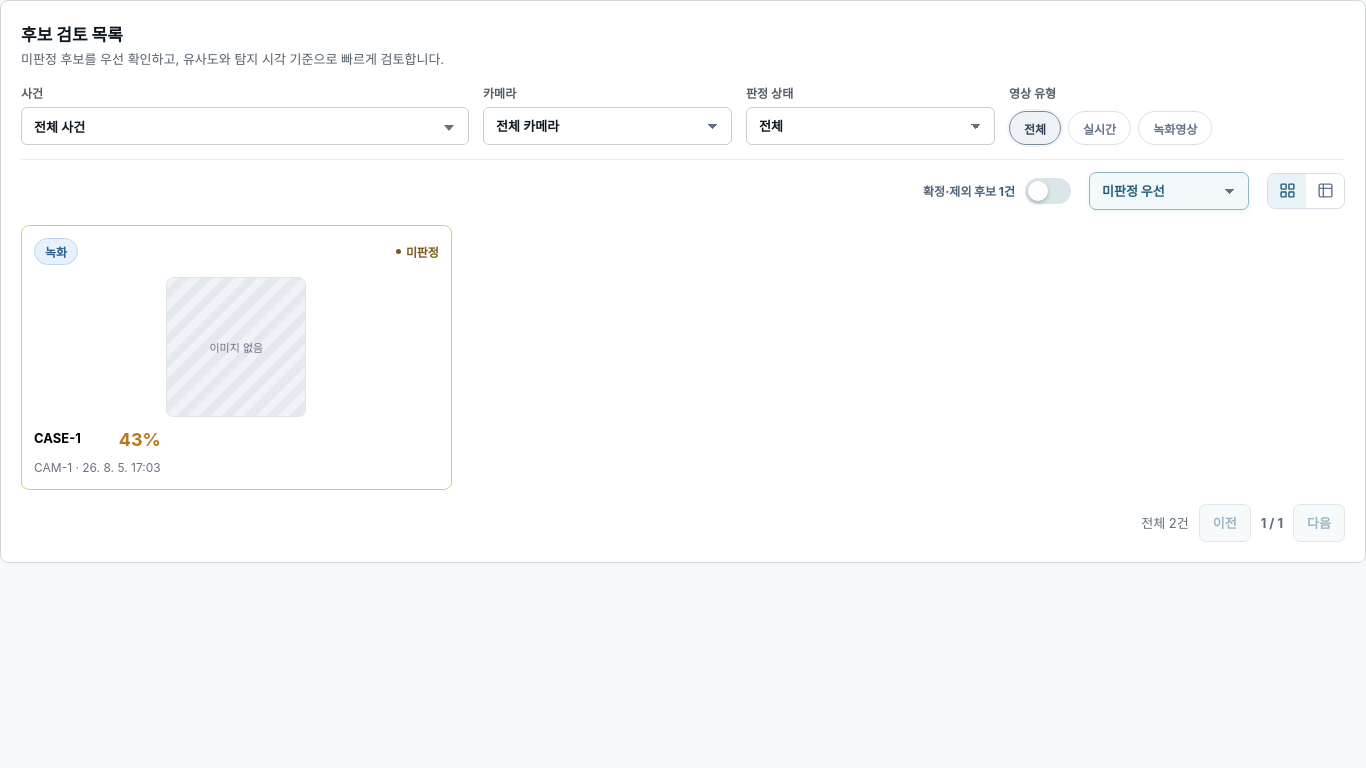
it: CandidatesView › collapses confirmed candidates by default
This screenshot has width=1366, height=768.
Expected: the number of buttons with class "candidate-card" is 1, [21,225,452,490]
Click the button with class "case-picker-trigger" at (60, 126), box [21,107,469,145]
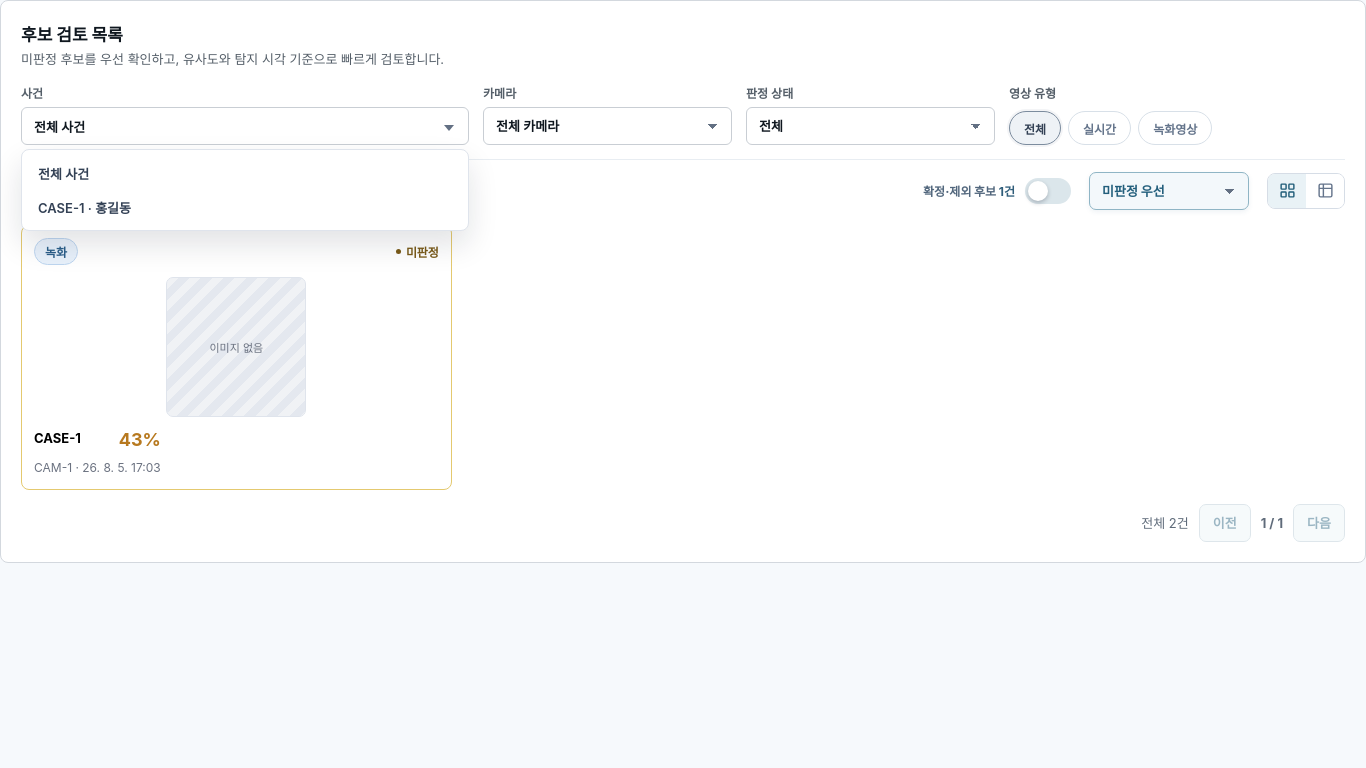
Click the button with class "case-picker-option" showing "CASE-1 · 홍길동" at (85, 208), box [28,190,462,224]
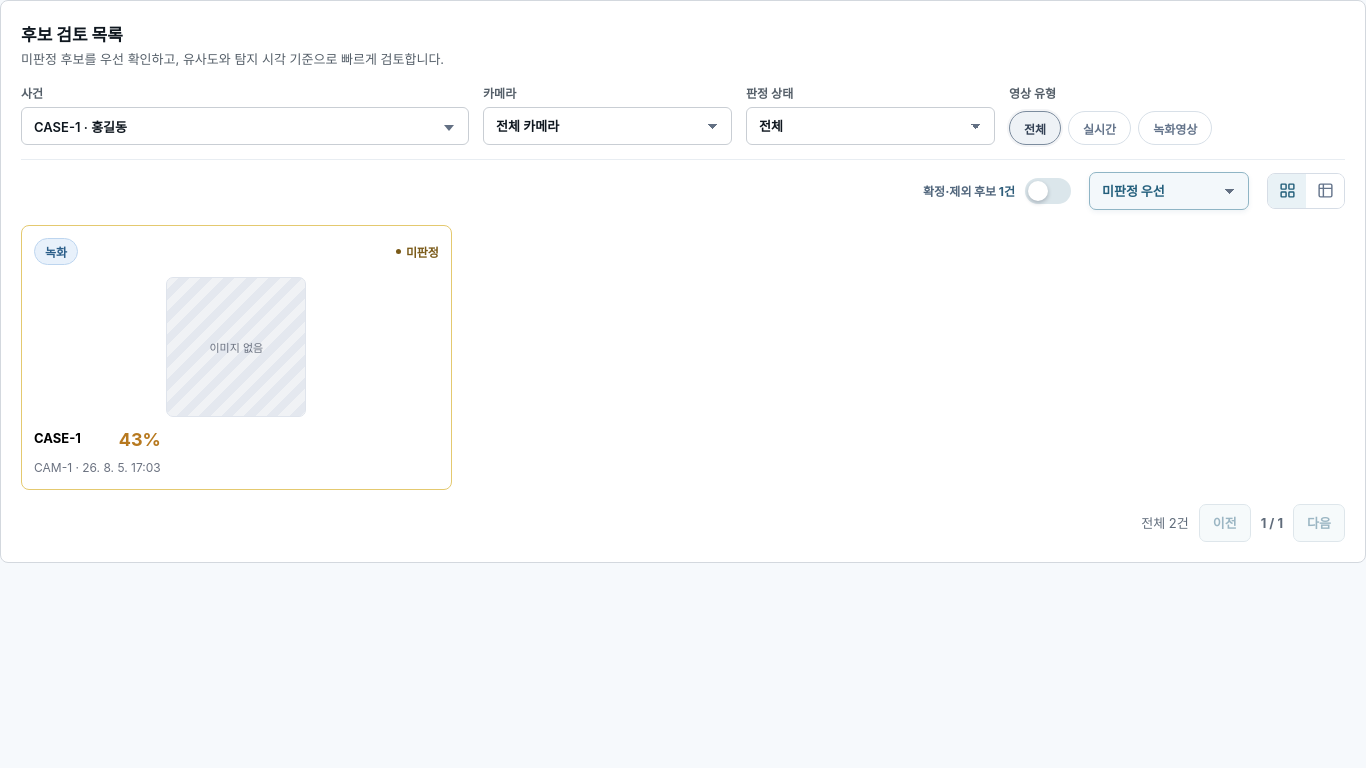
Now the button with class "case-picker-trigger" reads "CASE-1 · 홍길동", box [21,107,469,145]
Click the switch with class "resolved-candidates-toggle" at (1048, 190), box [1025,178,1071,204]
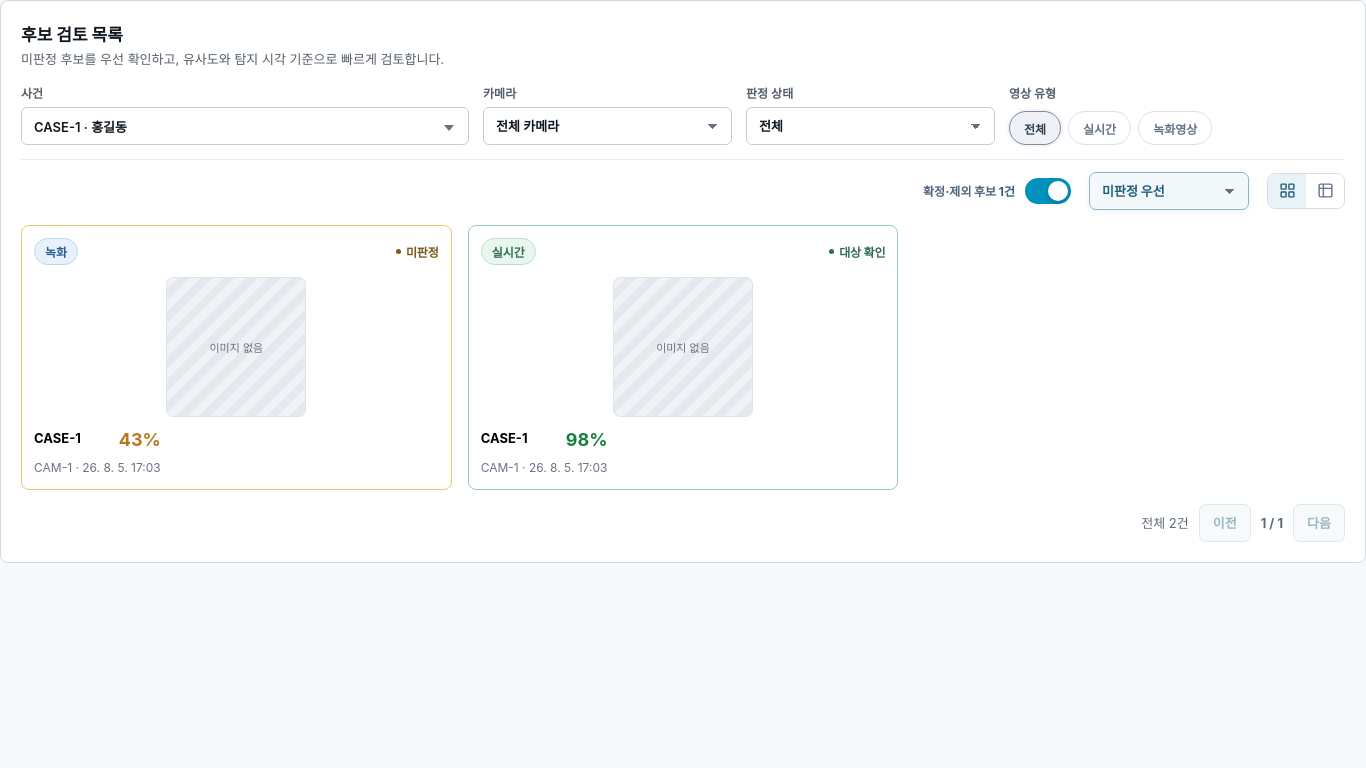
Now the number of buttons with class "candidate-card" is 2, box [21,225,452,490]; [468,225,898,490]
